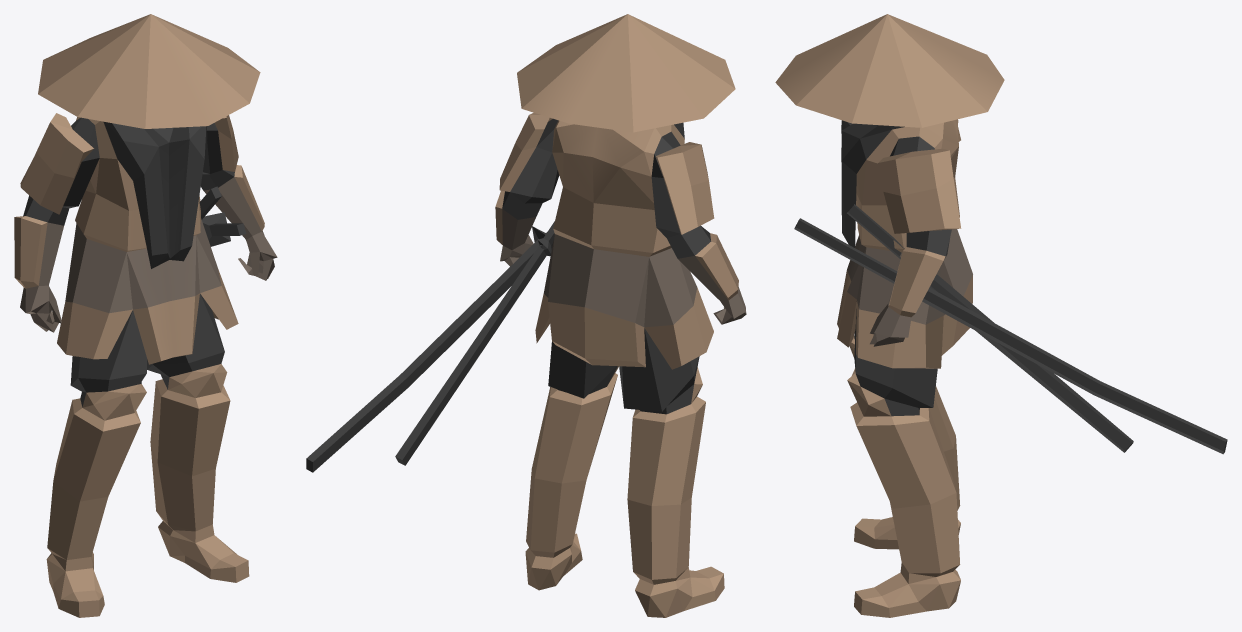
File: samurai.fbx
The picture shows the model from 3 angles, left to right: view 1: azimuth 30°, elevation 25°; view 2: azimuth 150°, elevation 25°; view 3: azimuth 270°, elevation 25°; orthographic projection. The views are drawn at different scales.
Visible parts, largest first — view 1: Samurai.obj; view 2: Samurai.obj; view 3: Samurai.obj.
Boxes of the visible parts, x1,y1,x2,y2 form: Samurai.obj: [14, 14, 277, 617]; Samurai.obj: [306, 14, 746, 617]; Samurai.obj: [775, 14, 1227, 617].
Size of the model in its own units: 10.42 by 20.56 by 15.02.
